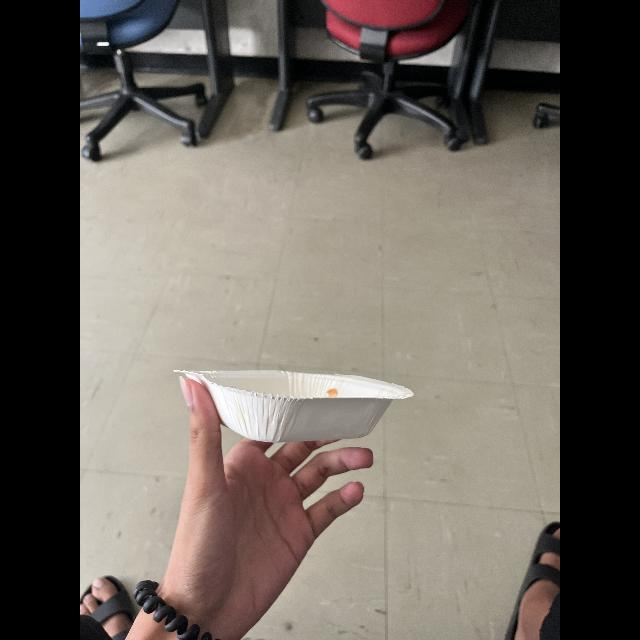cardboard_bowl: (175, 356, 413, 448)
